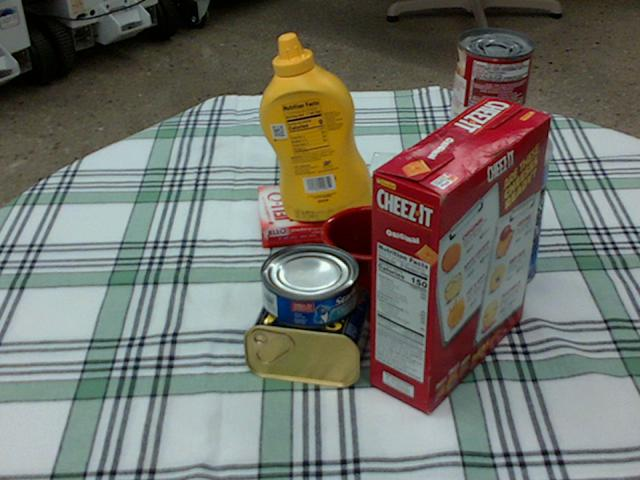cracker_box: (370, 97, 551, 413)
gelatin_box: (257, 185, 328, 249)
master_chef_can: (435, 119, 552, 292)
mug: (321, 207, 443, 324)
mustard_bottle: (258, 34, 372, 221)
potted_meat_can: (246, 276, 376, 385)
sugar_box: (344, 151, 448, 265)
tomato_soup_can: (447, 29, 532, 161)
tuna_fish_can: (260, 243, 359, 328)
